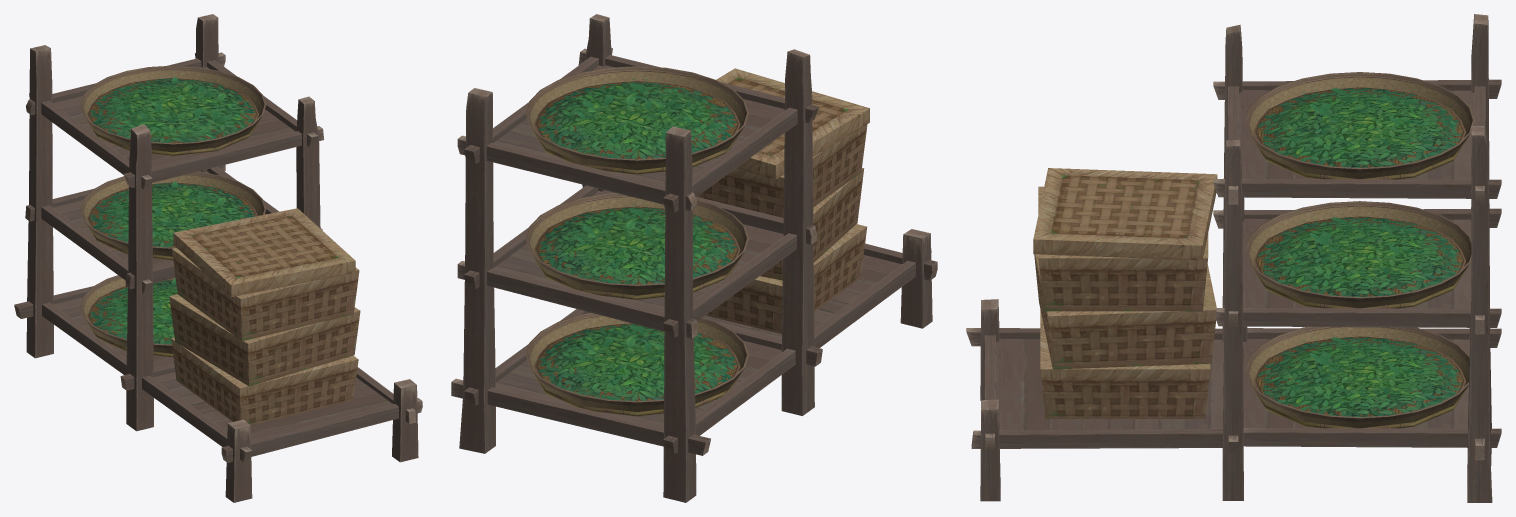
File: Homeworld_Exterior_Cyg_Decoration_Prop_Chayejia_01_Vo.fbx
3 renders of one model, left to right at view 1: azimuth 30°, elevation 25°; view 2: azimuth 150°, elevation 25°; view 3: azimuth 270°, elevation 25°, orthographic. The views are drawn at different scales.
Parts seen in each view (by area): view 1: Area_Cyg_Prop_QYZ_Chayejia_01_Vo, Area_Cyg_Prop_QYZ_Chakuang_02_Vo, Area_Cyg_Prop_QYZ_Shaizi_01_Vo (2), Area_Cyg_Prop_QYZ_Shaizi_01_Vo (1), Area_Cyg_Prop_QYZ_Shaizi_01_Vo; view 2: Area_Cyg_Prop_QYZ_Chayejia_01_Vo, Area_Cyg_Prop_QYZ_Shaizi_01_Vo (2), Area_Cyg_Prop_QYZ_Chakuang_02_Vo, Area_Cyg_Prop_QYZ_Shaizi_01_Vo (1), Area_Cyg_Prop_QYZ_Shaizi_01_Vo; view 3: Area_Cyg_Prop_QYZ_Chayejia_01_Vo, Area_Cyg_Prop_QYZ_Chakuang_02_Vo, Area_Cyg_Prop_QYZ_Shaizi_01_Vo (2), Area_Cyg_Prop_QYZ_Shaizi_01_Vo (1), Area_Cyg_Prop_QYZ_Shaizi_01_Vo.
Boxes of the visible parts, x1=… form: Area_Cyg_Prop_QYZ_Chayejia_01_Vo: x1=14, y1=14, x2=422, y2=502; Area_Cyg_Prop_QYZ_Chakuang_02_Vo: x1=169, y1=208, x2=360, y2=425; Area_Cyg_Prop_QYZ_Shaizi_01_Vo (2): x1=80, y1=65, x2=265, y2=155; Area_Cyg_Prop_QYZ_Shaizi_01_Vo (1): x1=80, y1=171, x2=265, y2=260; Area_Cyg_Prop_QYZ_Shaizi_01_Vo: x1=80, y1=275, x2=177, y2=357; Area_Cyg_Prop_QYZ_Chayejia_01_Vo: x1=451, y1=14, x2=937, y2=502; Area_Cyg_Prop_QYZ_Shaizi_01_Vo (2): x1=525, y1=66, x2=748, y2=174; Area_Cyg_Prop_QYZ_Chakuang_02_Vo: x1=697, y1=68, x2=869, y2=333; Area_Cyg_Prop_QYZ_Shaizi_01_Vo (1): x1=525, y1=192, x2=748, y2=299; Area_Cyg_Prop_QYZ_Shaizi_01_Vo: x1=525, y1=312, x2=748, y2=416; Area_Cyg_Prop_QYZ_Chayejia_01_Vo: x1=966, y1=14, x2=1501, y2=502; Area_Cyg_Prop_QYZ_Chakuang_02_Vo: x1=1033, y1=168, x2=1217, y2=418; Area_Cyg_Prop_QYZ_Shaizi_01_Vo (2): x1=1244, y1=72, x2=1474, y2=179; Area_Cyg_Prop_QYZ_Shaizi_01_Vo (1): x1=1244, y1=201, x2=1471, y2=308; Area_Cyg_Prop_QYZ_Shaizi_01_Vo: x1=1244, y1=327, x2=1469, y2=428.
Bounding box in the file's own units: 2.2 × 3.02 × 3.88.
